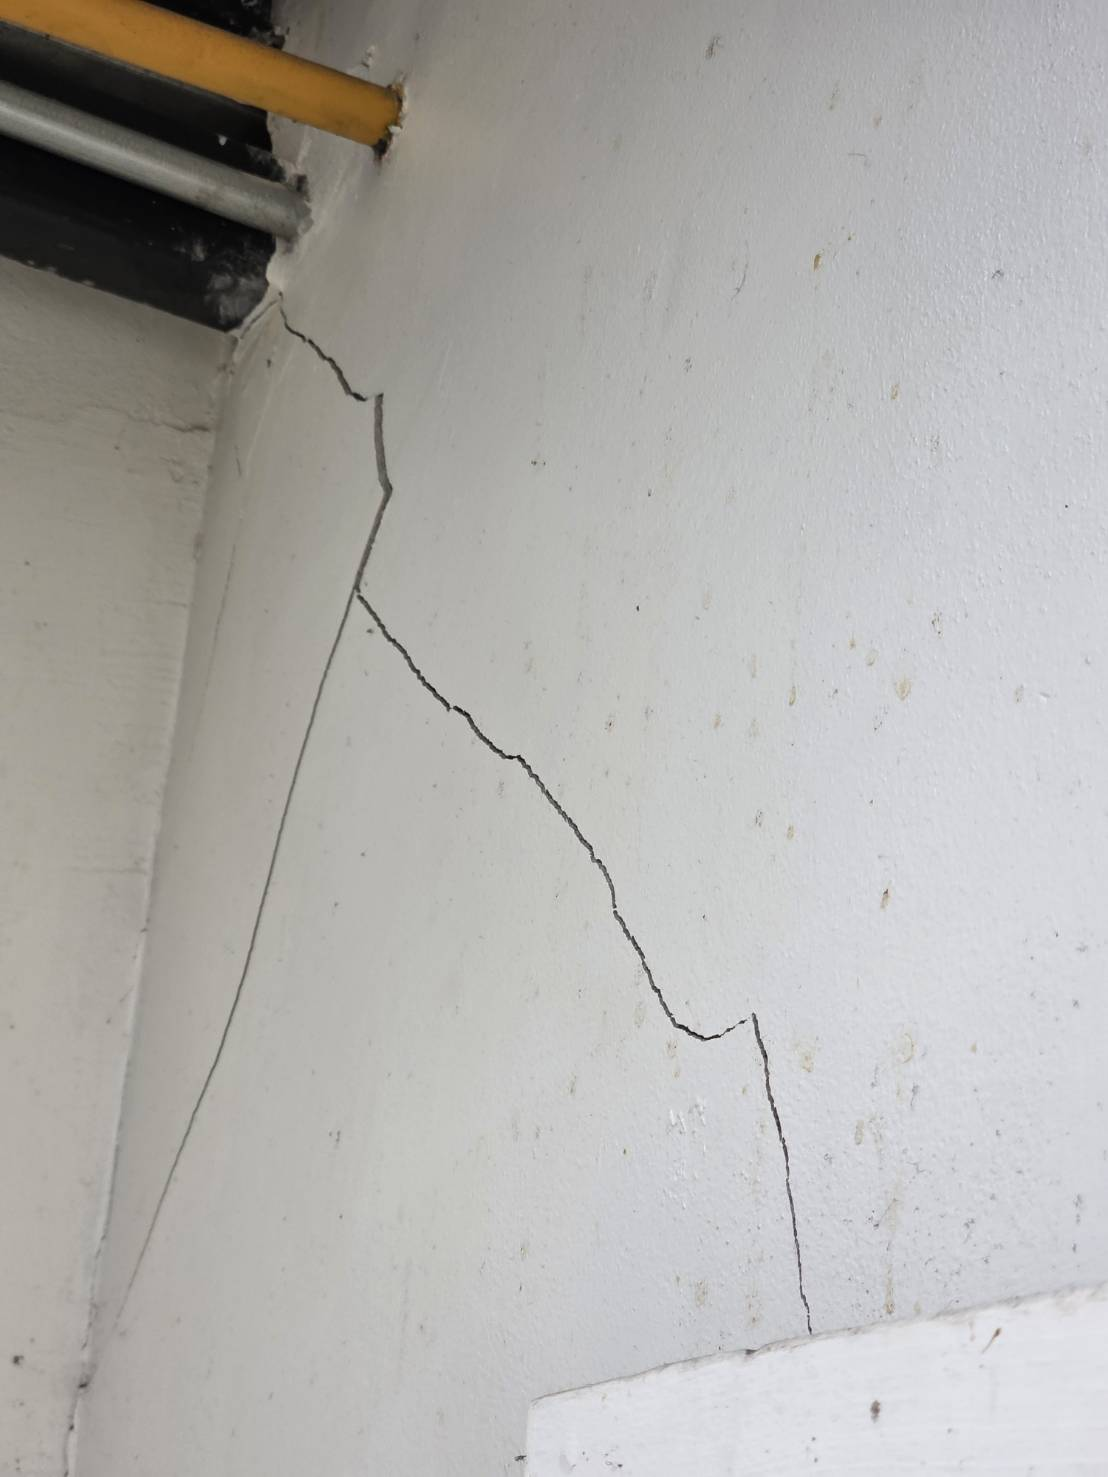Low: (80, 239, 869, 1428)
